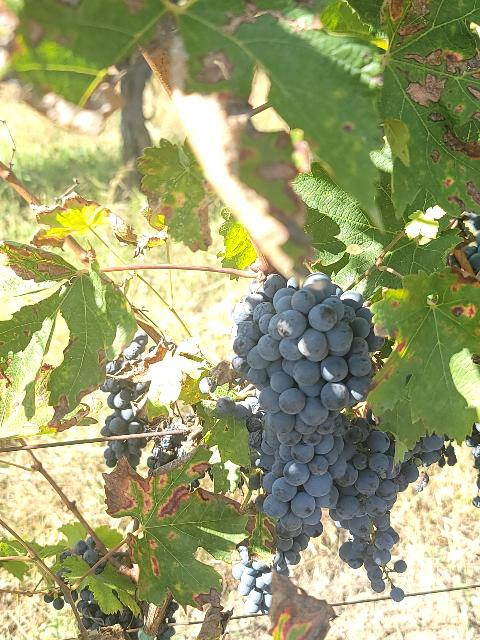grapes: (232, 272, 384, 434), (330, 411, 419, 591), (249, 439, 339, 564), (231, 545, 271, 614)
